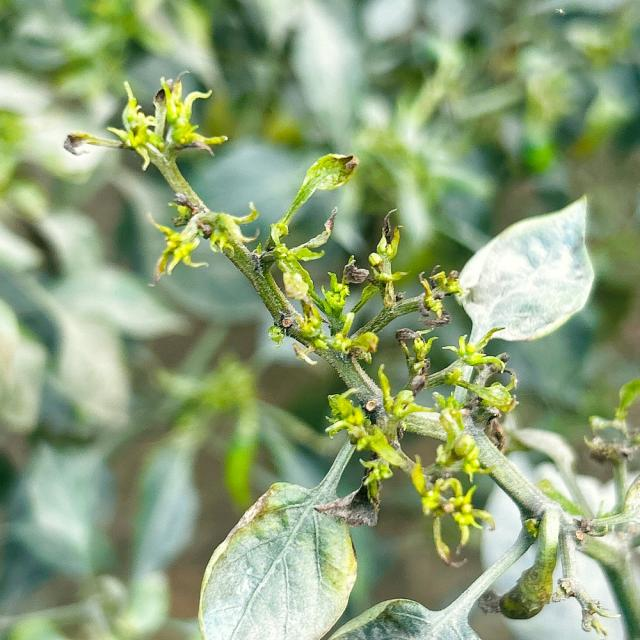Chilli_Leaf_Curl: (62, 71, 631, 637), (196, 437, 374, 639), (452, 192, 595, 348), (268, 151, 359, 245), (498, 506, 561, 620)
